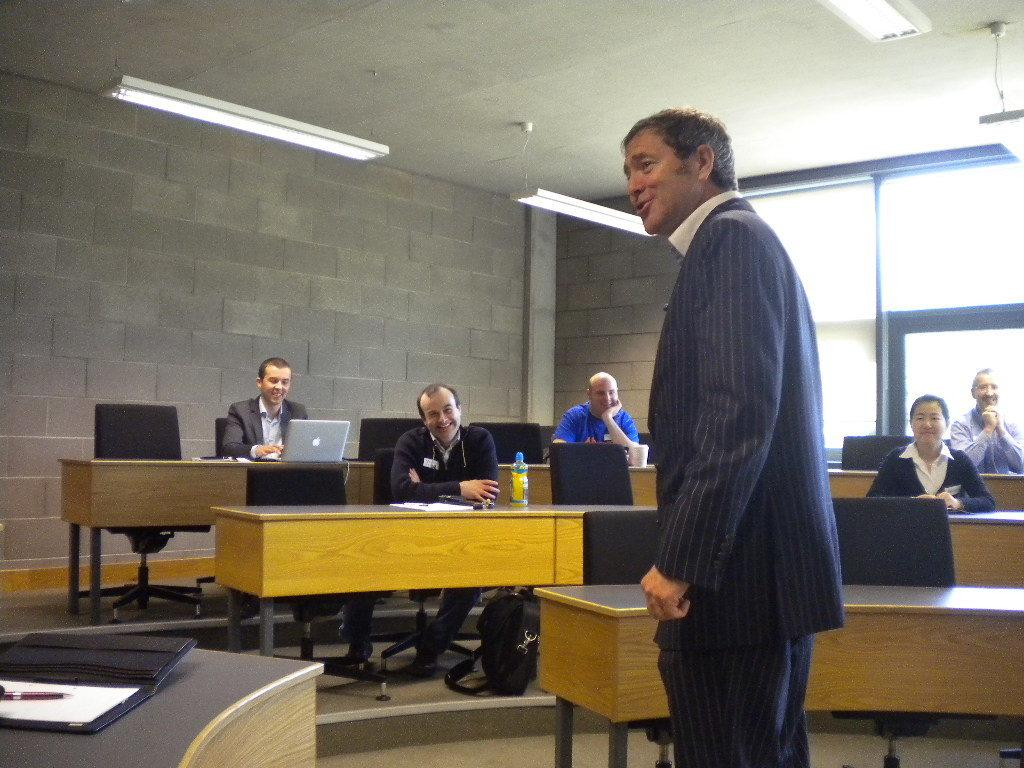Laptop: (256, 418, 351, 462)
Luggage-and-bags: (442, 586, 541, 697)
